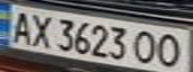2: (87, 21, 112, 59)
3: (106, 25, 133, 62), (51, 16, 75, 53)
6: (69, 20, 93, 56)
A: (6, 8, 36, 45)
O: (151, 30, 187, 70), (130, 28, 160, 65)
X: (27, 11, 54, 48)
